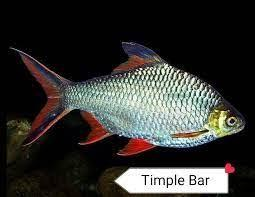Silver Barb: (16, 41, 242, 162)
